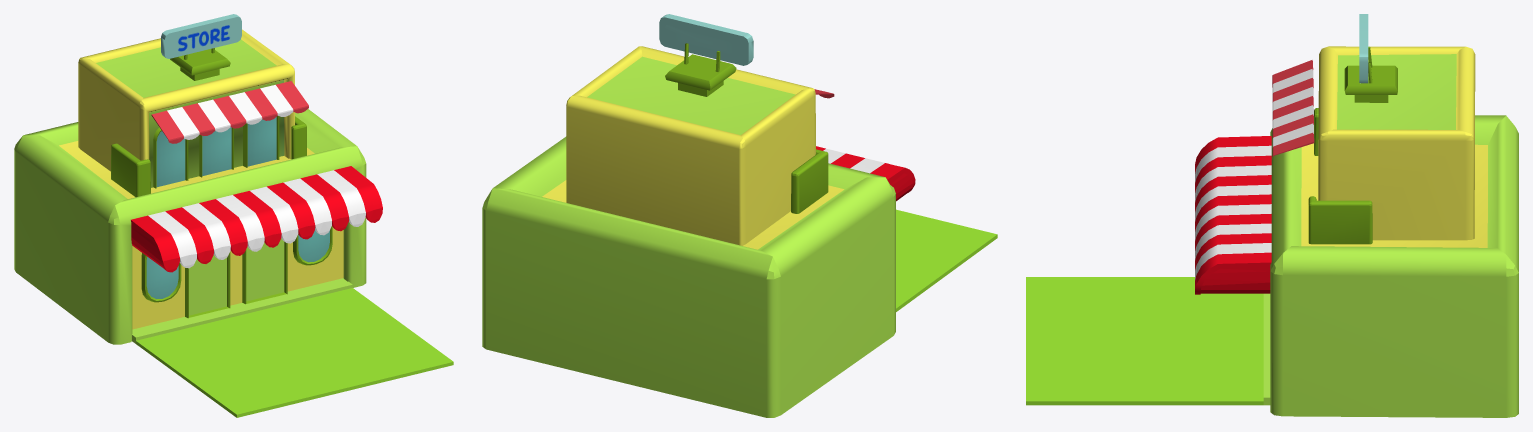
Rendered from SM_Store.fbx.
3 views of the same model, side by side, from view 1: azimuth 30°, elevation 25°; view 2: azimuth 150°, elevation 25°; view 3: azimuth 270°, elevation 25° (orthographic). The views are drawn at different scales.
Parts seen in each view (by area): view 1: SM_Store; view 2: SM_Store; view 3: SM_Store.
Part boxes in pixels (left/top/right/bottom): SM_Store: left=14, top=14, right=453, bottom=417; SM_Store: left=482, top=14, right=997, bottom=417; SM_Store: left=1026, top=14, right=1518, bottom=417.
Bounding box in the file's own units: 931 × 903 × 1304.
